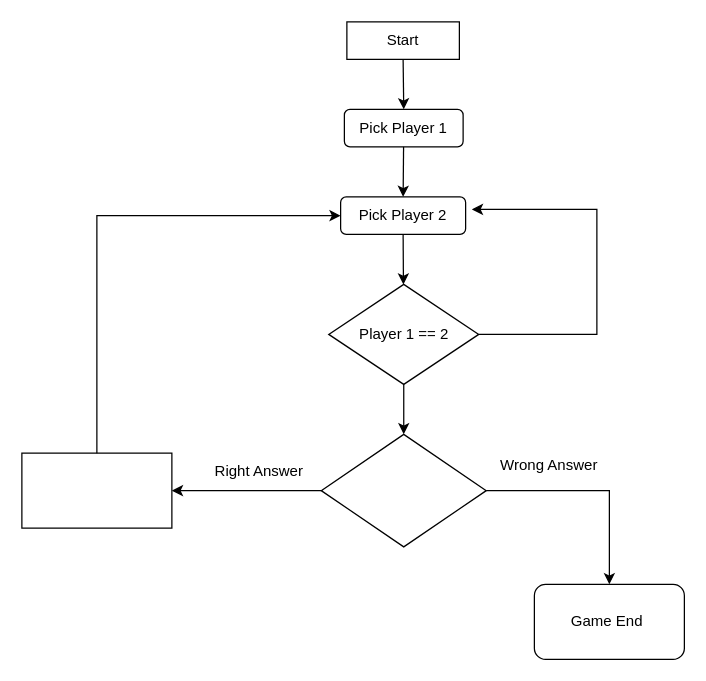
Image size: 706x681. Some labels were removed from this diagram. Each missing label, with the centre of its shape:
"Replace Player 1 with Player 2" goes at pixel 96 490.
"Select Player 2 is Higher or Lower" goes at pixel 403 490.
